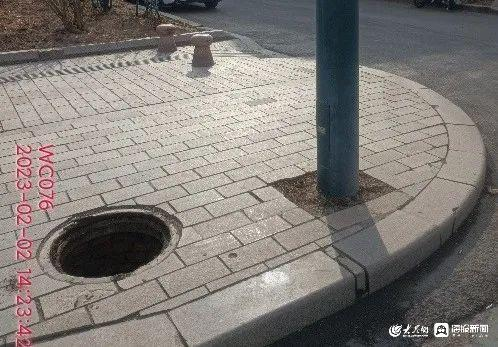lose: (38, 200, 182, 282)
